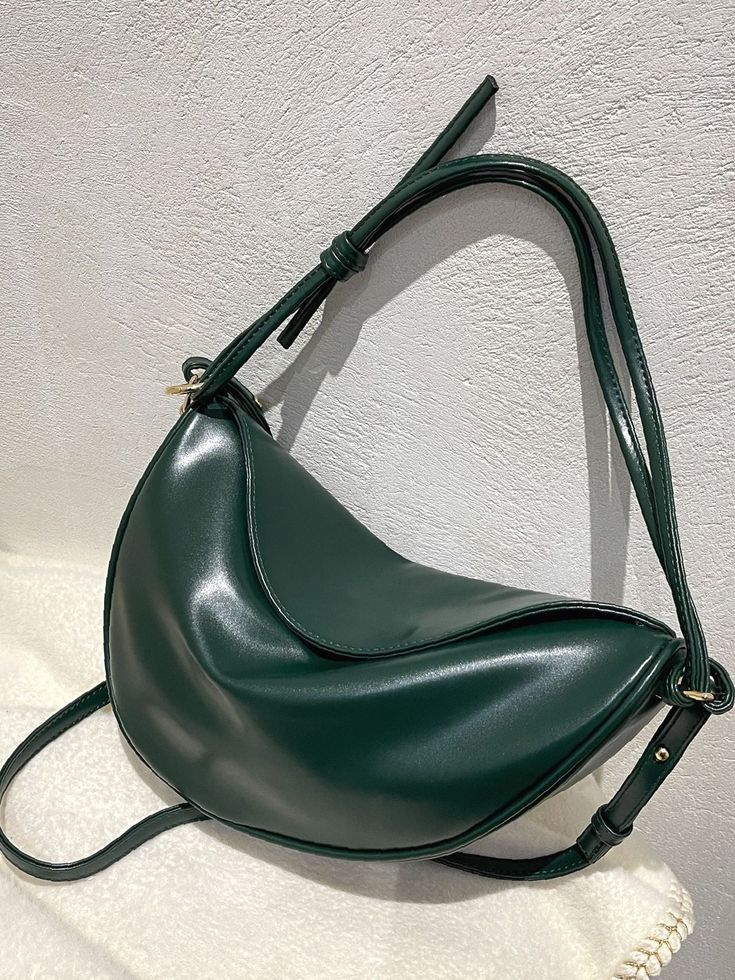cuero: (1, 73, 734, 881)
